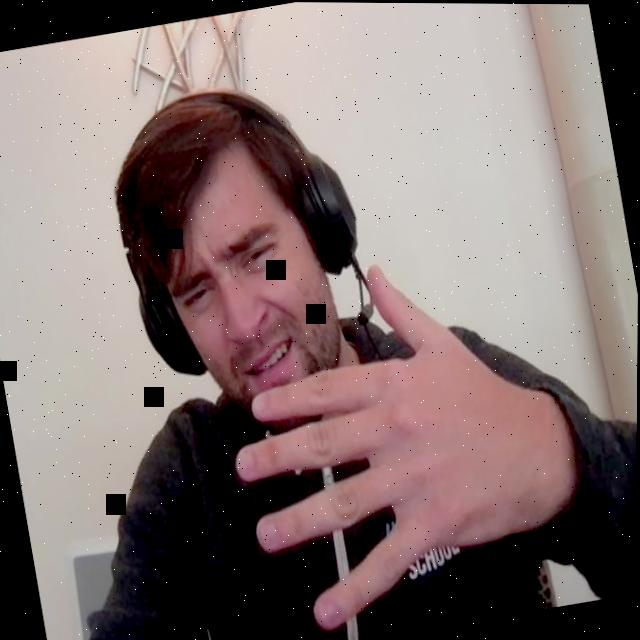Paper: (193, 226, 567, 640)
